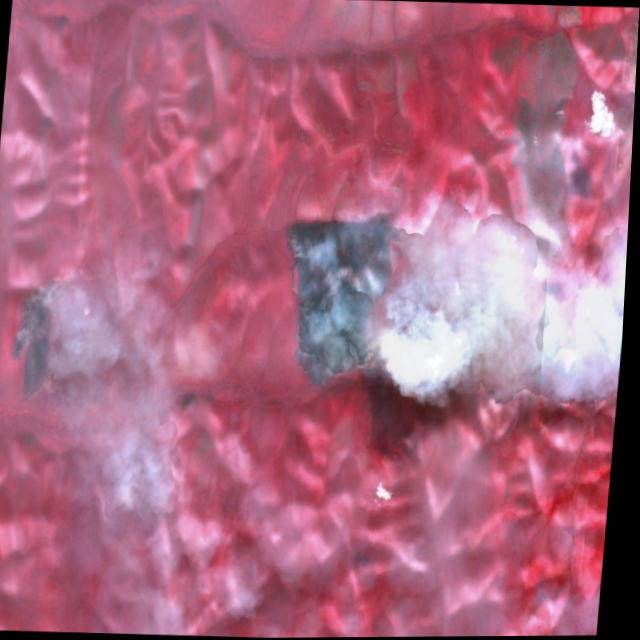fire: (272, 205, 410, 400), (5, 276, 69, 409)
